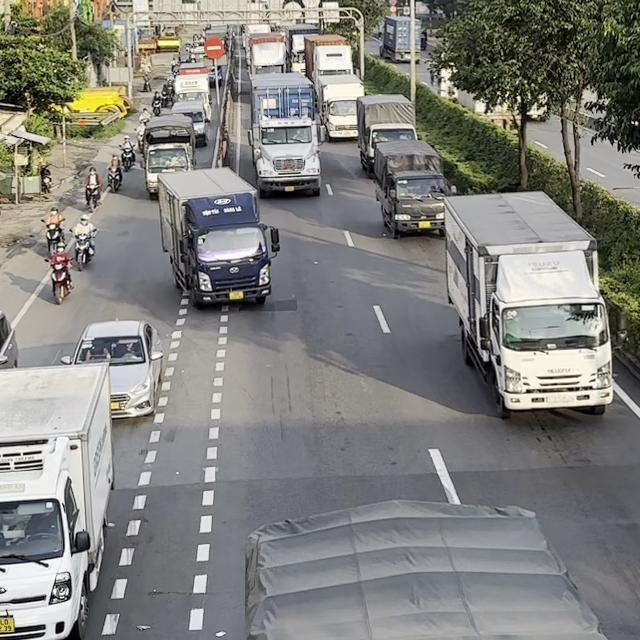car: (59, 318, 164, 419)
motorcycle: (44, 255, 74, 305), (71, 227, 97, 271), (40, 218, 66, 256), (84, 183, 101, 211), (105, 165, 123, 191), (118, 144, 135, 170)
truck: (218, 499, 612, 640), (442, 188, 614, 418), (0, 360, 115, 639), (157, 165, 280, 308), (247, 71, 322, 197), (373, 139, 457, 239), (356, 93, 417, 175), (140, 121, 196, 199), (316, 72, 366, 142), (303, 33, 354, 83), (246, 32, 288, 76)
